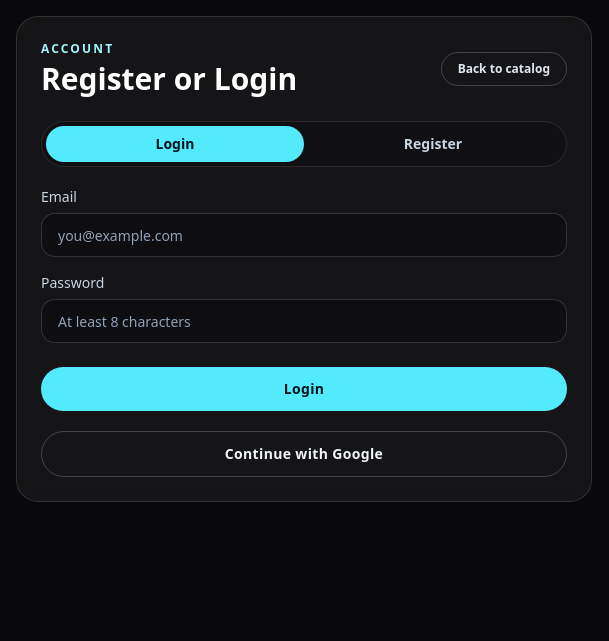
Test: AuthClient › shows register API error
The image size is (609, 641).
Click the button "Register" at coordinates (433, 144), box [304, 126, 562, 162]
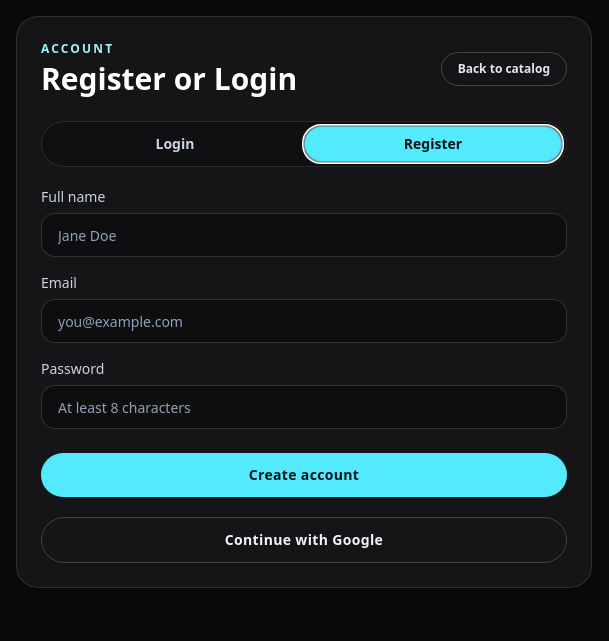
Type "Existing User" into the field with placeholder "Jane Doe" at coordinates (304, 235), box [41, 213, 567, 257]
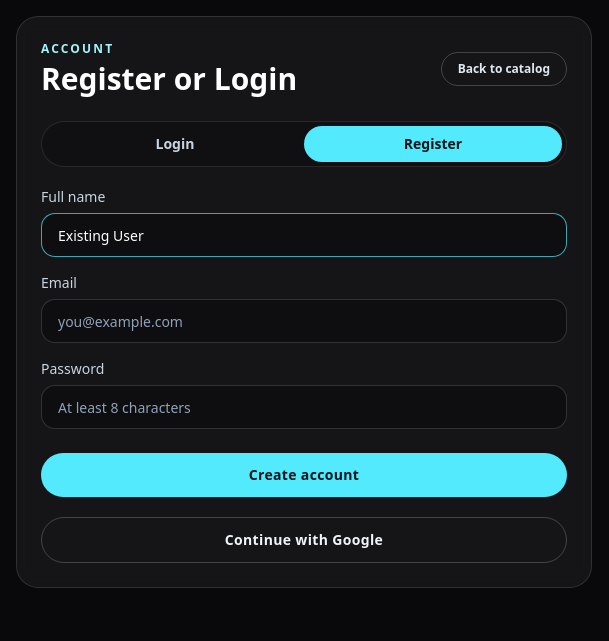
Type "existing@example.com" into the field with placeholder "you@example.com" at coordinates (304, 321), box [41, 299, 567, 343]
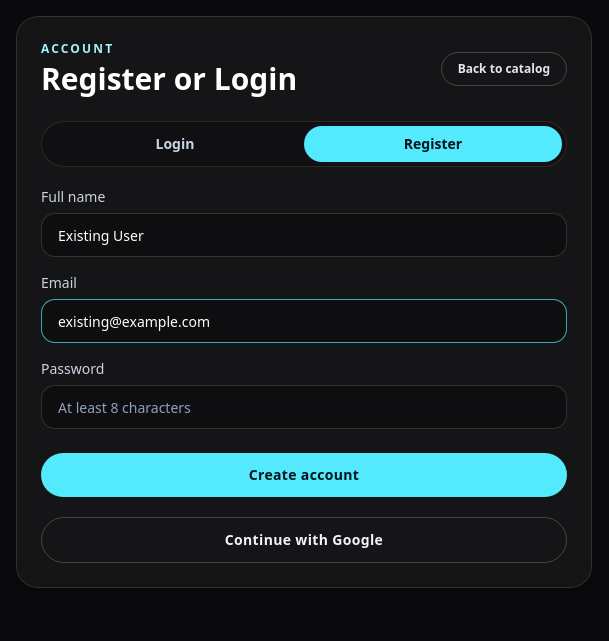
Type "P@ssw0rd!" into the password field with placeholder "At least 8 characters" at coordinates (304, 407), box [41, 385, 567, 429]
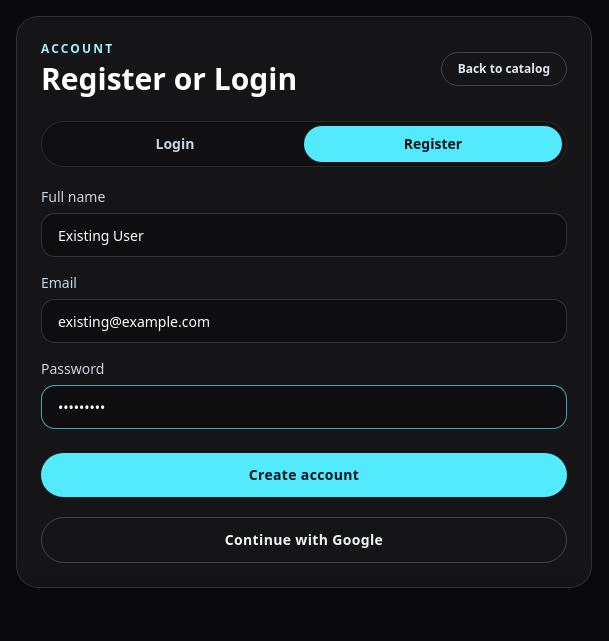
Click the button "Create account" at coordinates (304, 475), box [41, 453, 567, 497]
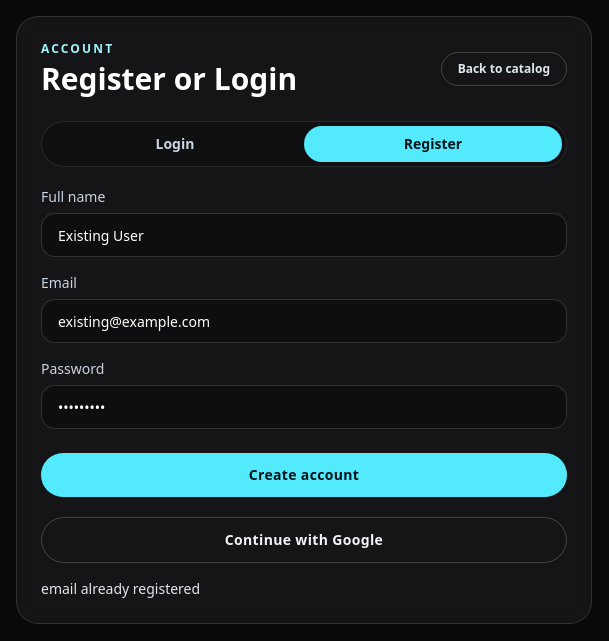
Expected: the text "email already registered" is shown, [41, 579, 200, 598]
